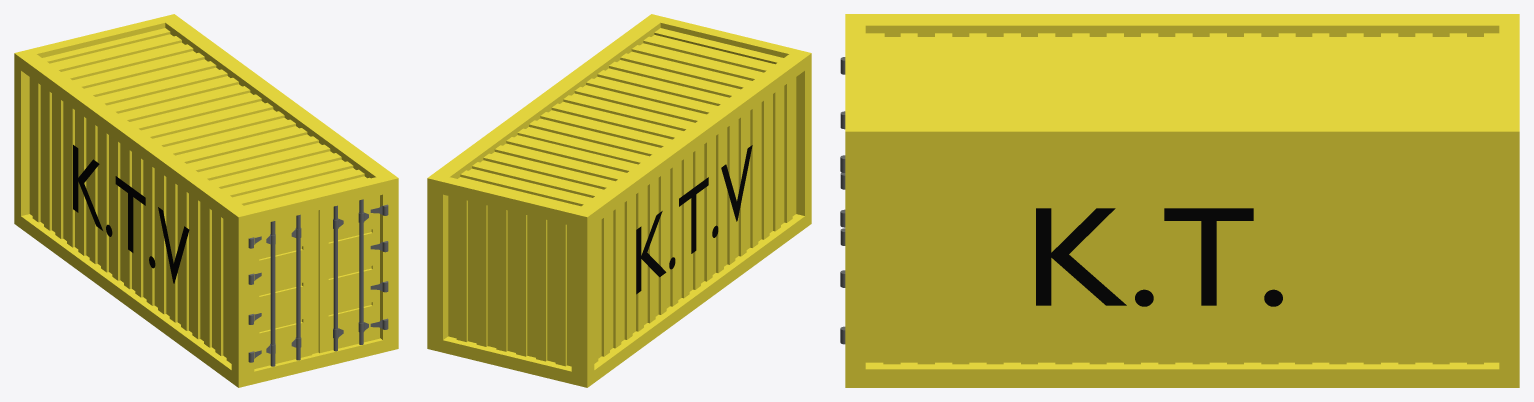
Rendered from container.fbx.
The picture shows the model from 3 angles, left to right: view 1: azimuth 30°, elevation 25°; view 2: azimuth 150°, elevation 25°; view 3: azimuth 270°, elevation 25°; orthographic projection. The views are drawn at different scales.
Parts seen in each view (by area): view 1: Cube, Cylinder.001, Cylinder, K.T.V; view 2: Cube, K.T.V; view 3: Cube, K.T.V.001.
Part boxes in pixels (x1,y1,x2,y2): Cube: [14, 14, 398, 387]; Cylinder.001: [315, 195, 388, 353]; Cylinder: [248, 211, 314, 368]; K.T.V: [73, 145, 189, 283]; Cube: [427, 14, 811, 387]; K.T.V: [636, 145, 752, 294]; Cube: [845, 14, 1519, 387]; K.T.V.001: [1036, 208, 1282, 306].
Size of the model in its own units: 330 by 336 by 805.
